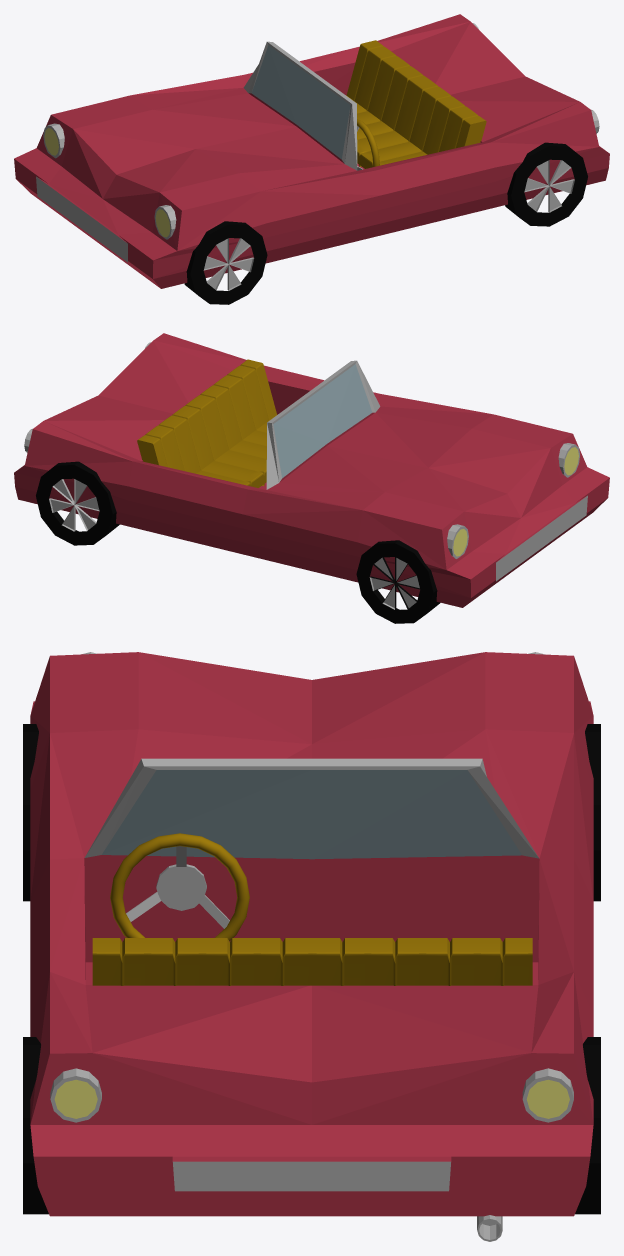
The model's file is car2.fbx.
The picture shows the model from 3 angles, top to bottom: view 1: azimuth 30°, elevation 25°; view 2: azimuth 150°, elevation 25°; view 3: azimuth 270°, elevation 25°; orthographic projection. The views are drawn at different scales.
Visible parts, largest first — view 1: body, seatv3, seatv2, wheel2, wheel1, light1, light, pCylinder2; view 2: body, seatv2, seatv3, wheel2, wheel1, light, light1; view 3: body, seatv2, seatv3, pCylinder2, wheel2, wheel1, light2, light3.
Boxes of the visible parts, box(x1,y1,x2,y2) form: body: box(14, 14, 609, 288); seatv3: box(357, 80, 486, 168); seatv2: box(346, 40, 430, 146); wheel2: box(505, 142, 587, 226); wheel1: box(184, 221, 267, 304); light1: box(154, 205, 176, 239); light: box(43, 123, 64, 158); pCylinder2: box(357, 119, 379, 170); body: box(14, 333, 609, 607); seatv2: box(137, 399, 266, 487); seatv3: box(193, 359, 277, 465); wheel2: box(36, 461, 119, 545); wheel1: box(356, 540, 440, 623); light: box(447, 524, 468, 558); light1: box(558, 443, 579, 477); body: box(30, 652, 593, 1216); seatv2: box(312, 938, 532, 985); seatv3: box(92, 938, 312, 985); pCylinder2: box(110, 833, 249, 940); wheel2: box(23, 1037, 600, 1214); wheel1: box(23, 724, 600, 901); light2: box(50, 1068, 101, 1122); light3: box(522, 1068, 573, 1122).
Bounding box in the file's own units: 10.18 × 2.98 × 5.5.
